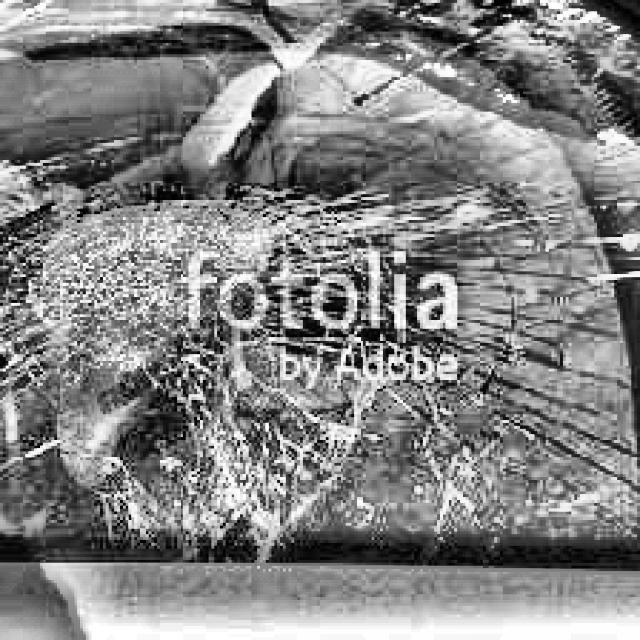glass_shatter: (11, 191, 337, 510)
